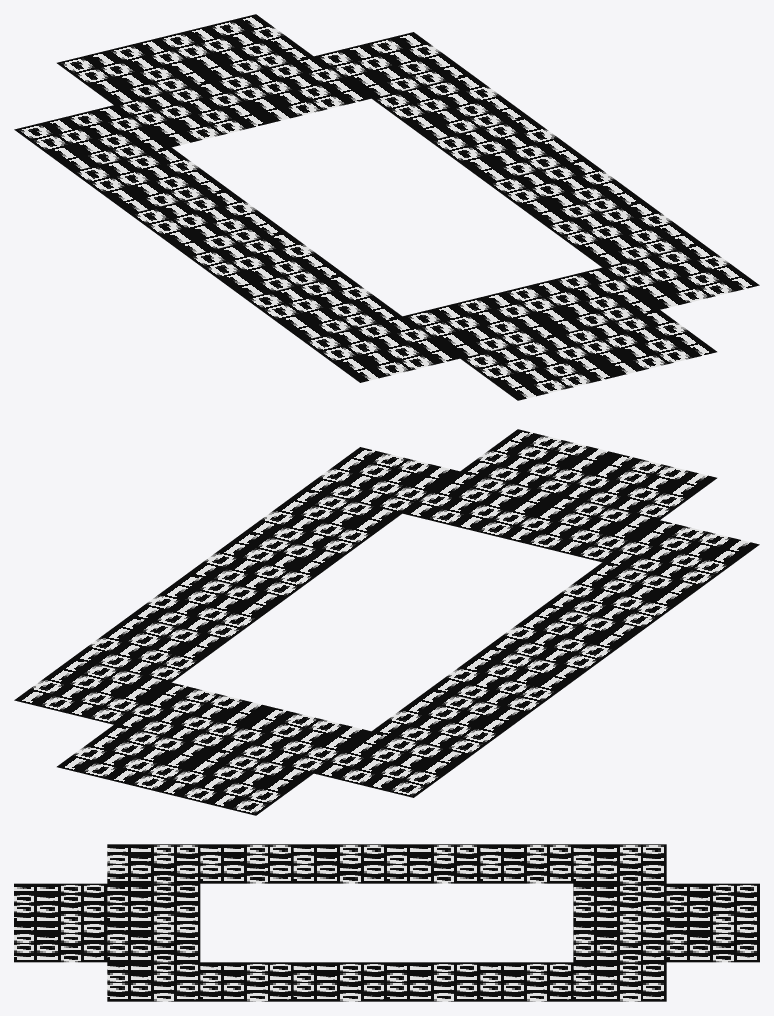
Rendered from data_Low.obj.
3 views of the same model, one above another, from view 1: azimuth 30°, elevation 25°; view 2: azimuth 150°, elevation 25°; view 3: azimuth 270°, elevation 25° (orthographic). The views are drawn at different scales.
Parts seen in each view (by area): view 1: piece_0012, piece_0001, piece_0010, piece_000B, piece_0008, piece_0003, piece_0011, piece_000E, piece_000A, piece_0009, piece_0005, piece_0002 (+8 smaller); view 2: piece_0013, piece_0000, piece_000F, piece_000A, piece_0009, piece_0004, piece_0011, piece_000E, piece_000B, piece_0008, piece_0005, piece_0002 (+8 smaller); view 3: piece_0011, piece_0010, piece_000F, piece_000E, piece_000D, piece_000C, piece_000B, piece_000A, piece_0009, piece_0008, piece_0007, piece_0006 (+8 smaller).
Boxes of the visible parts, bbox=[...] form: piece_0012: bbox=[156, 14, 313, 80]; piece_0001: bbox=[460, 334, 617, 400]; piece_0010: bbox=[114, 81, 270, 147]; piece_000B: bbox=[130, 189, 286, 256]; piece_0008: bbox=[487, 158, 643, 225]; piece_0003: bbox=[503, 267, 659, 333]; piece_0011: bbox=[14, 105, 171, 171]; piece_000E: bbox=[314, 32, 470, 98]; piece_000A: bbox=[429, 116, 586, 182]; piece_0009: bbox=[187, 232, 344, 298]; piece_0005: bbox=[303, 316, 459, 382]; piece_0002: bbox=[602, 243, 759, 309]; piece_0013: bbox=[156, 749, 313, 815]; piece_0000: bbox=[460, 429, 617, 495]; piece_000F: bbox=[114, 682, 270, 748]; piece_000A: bbox=[130, 573, 286, 640]; piece_0009: bbox=[487, 604, 643, 671]; piece_0004: bbox=[503, 496, 659, 562]; piece_0011: bbox=[314, 731, 470, 797]; piece_000E: bbox=[14, 658, 171, 724]; piece_000B: bbox=[429, 647, 586, 713]; piece_0008: bbox=[187, 531, 344, 597]; piece_0005: bbox=[602, 520, 759, 586]; piece_0002: bbox=[303, 447, 459, 513]; piece_0011: bbox=[573, 844, 666, 883]; piece_0010: bbox=[573, 883, 666, 922]; piece_000F: bbox=[573, 923, 666, 962]; piece_000E: bbox=[573, 962, 666, 1001]; piece_000D: bbox=[480, 844, 573, 883]; piece_000C: bbox=[480, 962, 573, 1001]; piece_000B: bbox=[387, 844, 480, 883]; piece_000A: bbox=[387, 962, 480, 1001]; piece_0009: bbox=[293, 844, 386, 883]; piece_0008: bbox=[293, 962, 386, 1001]; piece_0007: bbox=[200, 844, 293, 883]; piece_0006: bbox=[200, 962, 293, 1001].
Size of the model in its own units: 30.72 by 0 by 61.44.
Materials: 1 (1 with a texture image).
